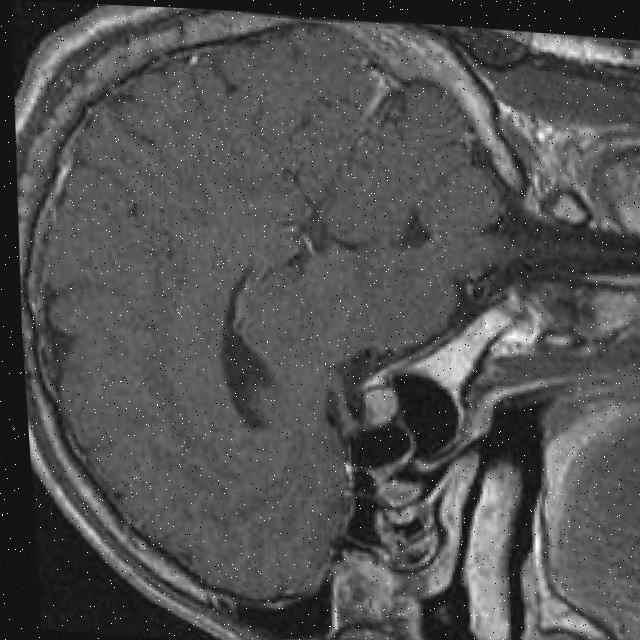Pituitary: (358, 382, 400, 425)
